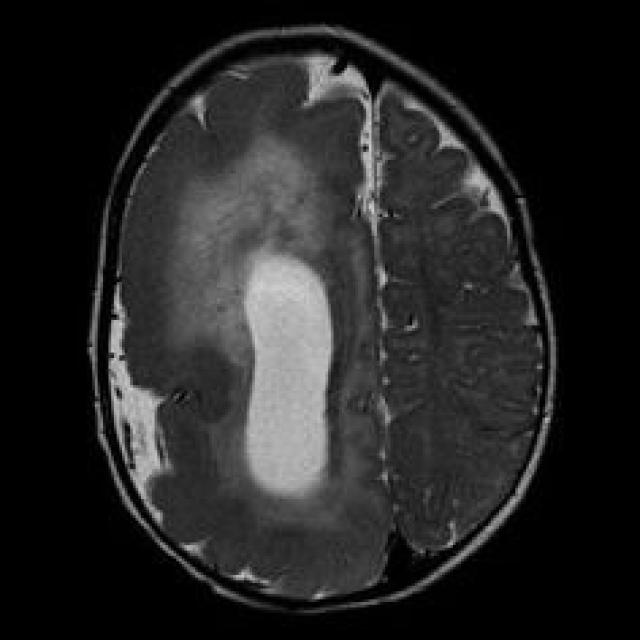Tumor-Cell: (237, 239, 337, 499)
